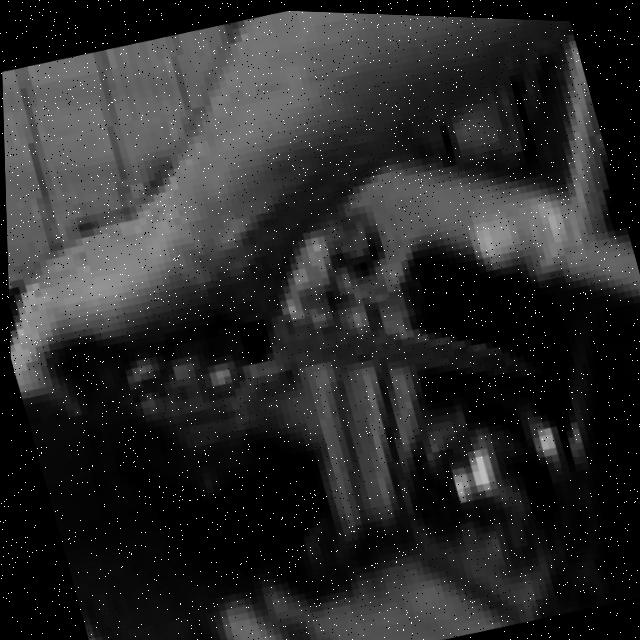knife: (255, 265, 546, 447)
